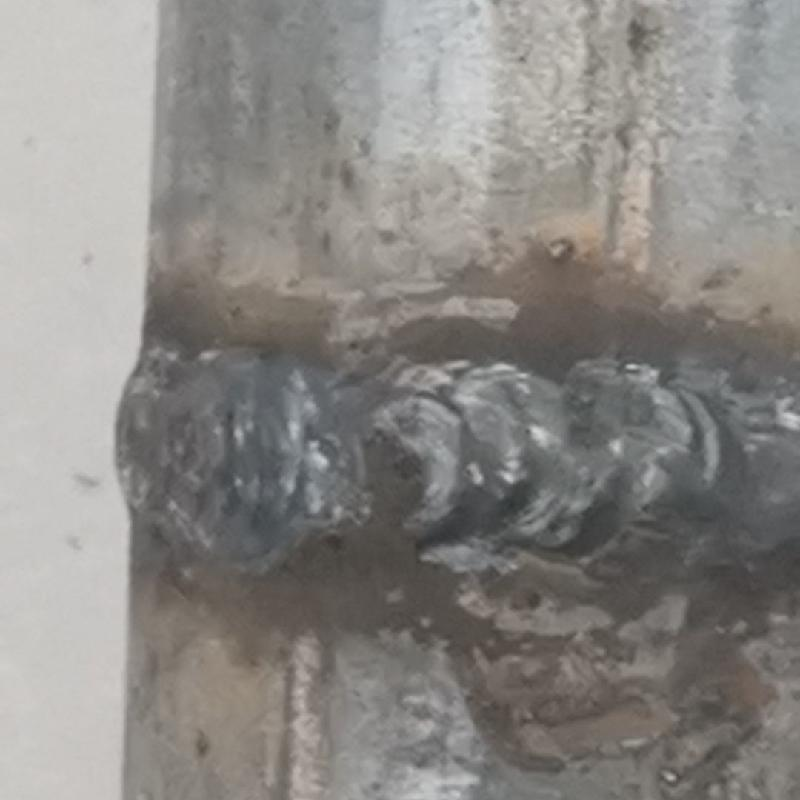good: (97, 315, 799, 569)
